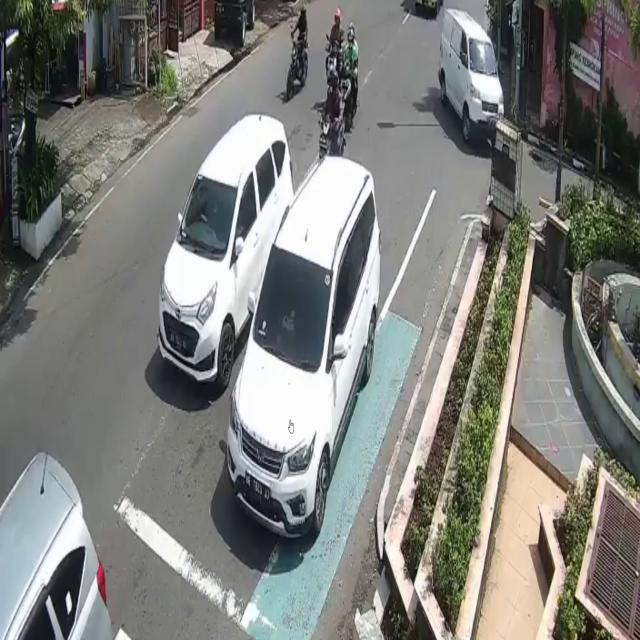bus: (286, 36, 308, 102), (341, 62, 360, 134), (318, 115, 345, 160), (328, 39, 345, 88)
motorcycle: (228, 155, 382, 539), (160, 114, 297, 393), (0, 448, 112, 640), (437, 7, 505, 148)
